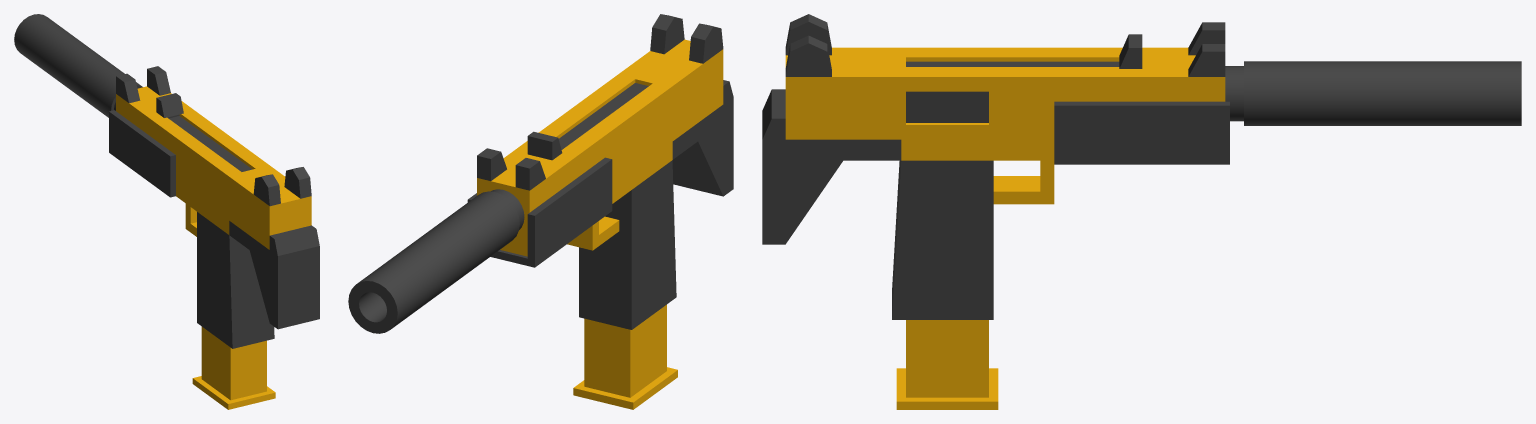
The model's file is uziLongSilencerGold.dae.
The picture shows the model from 3 angles, left to right: view 1: azimuth 30°, elevation 25°; view 2: azimuth 150°, elevation 25°; view 3: azimuth 270°, elevation 25°; orthographic projection. The views are drawn at different scales.
Visible parts, largest first — view 1: Group (×5); view 2: Group (×5); view 3: Group (×5).
Boxes of the visible parts, x1=… form: Group (×5): x1=14, y1=14, x2=319, y2=409; Group (×5): x1=348, y1=14, x2=733, y2=409; Group (×5): x1=762, y1=14, x2=1521, y2=409.
Size of the model in its own units: 0.0727 by 0.333 by 0.6282.
